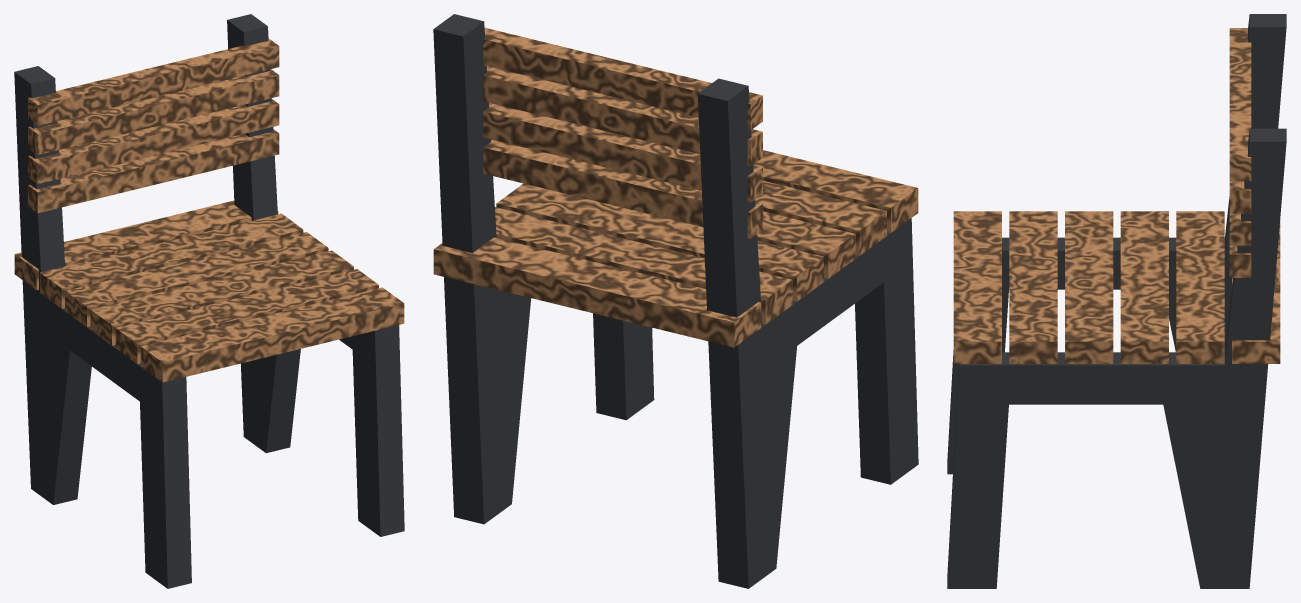
3 renders of one model, left to right at view 1: azimuth 30°, elevation 25°; view 2: azimuth 150°, elevation 25°; view 3: azimuth 270°, elevation 25°, orthographic. The views are drawn at different scales.
Visible parts, largest first — view 1: armrests=false;backHeight=0.8;backrest=true;depth=0.55;frame (×2); view 2: armrests=false;backHeight=0.8;backrest=true;depth=0.55;frame (×2); view 3: armrests=false;backHeight=0.8;backrest=true;depth=0.55;frame (×2).
Boxes of the visible parts, bbox=[...] form: armrests=false;backHeight=0.8;backrest=true;depth=0.55;frame (×2): bbox=[14, 14, 404, 588]; armrests=false;backHeight=0.8;backrest=true;depth=0.55;frame (×2): bbox=[433, 14, 918, 588]; armrests=false;backHeight=0.8;backrest=true;depth=0.55;frame (×2): bbox=[947, 14, 1286, 588].
Bounding box in the file's own units: 0.5 × 0.55 × 0.8.
2 materials, 1 textured.
